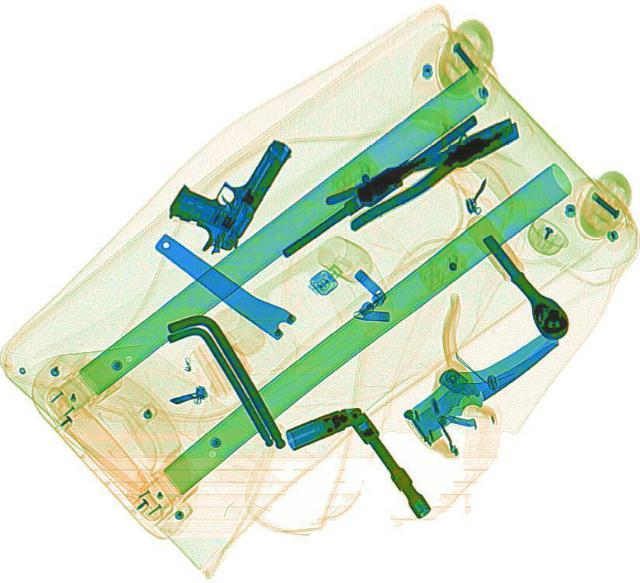Gun: (152, 116, 296, 260)
Pliers: (320, 108, 532, 234)
